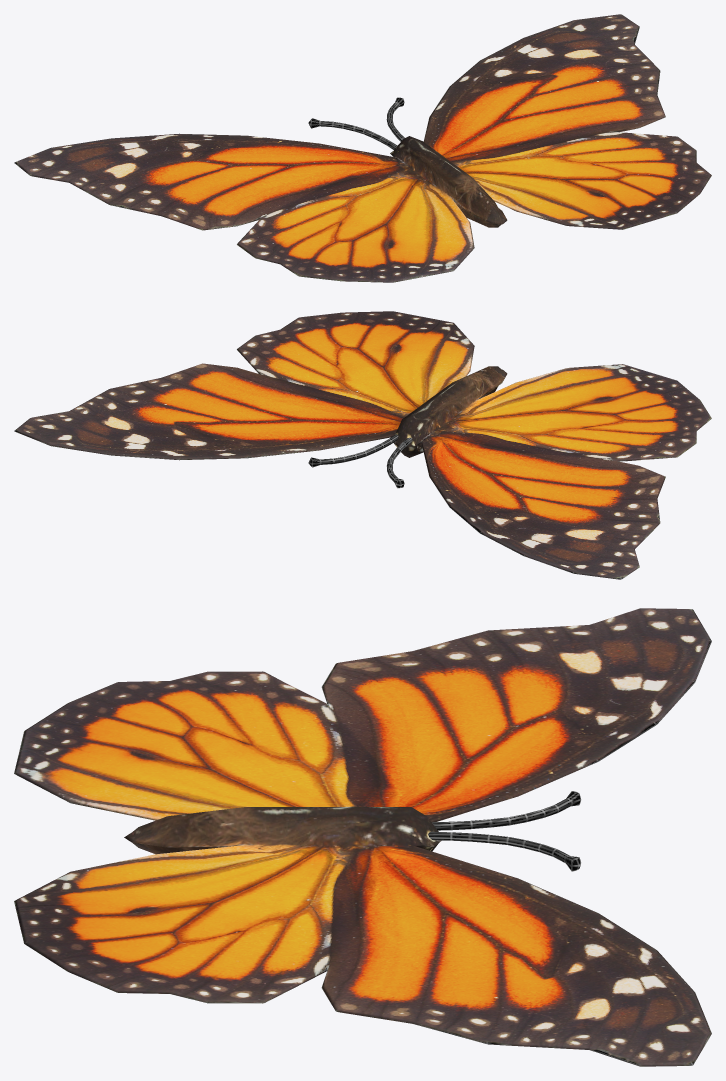
The model's file is monarca.glb.
The picture shows the model from 3 angles, top to bottom: view 1: azimuth 30°, elevation 25°; view 2: azimuth 150°, elevation 25°; view 3: azimuth 270°, elevation 25°; orthographic projection. The views are drawn at different scales.
Parts seen in each view (by area): view 1: Mariposa_01; view 2: Mariposa_01; view 3: Mariposa_01.
Boxes of the visible parts, bbox=[...] form: Mariposa_01: bbox=[14, 14, 711, 282]; Mariposa_01: bbox=[14, 311, 711, 579]; Mariposa_01: bbox=[14, 608, 711, 1066].
Bounding box in the file's own units: 7.47 × 0.4622 × 4.81.
Materials: 1 (1 with a texture image).
